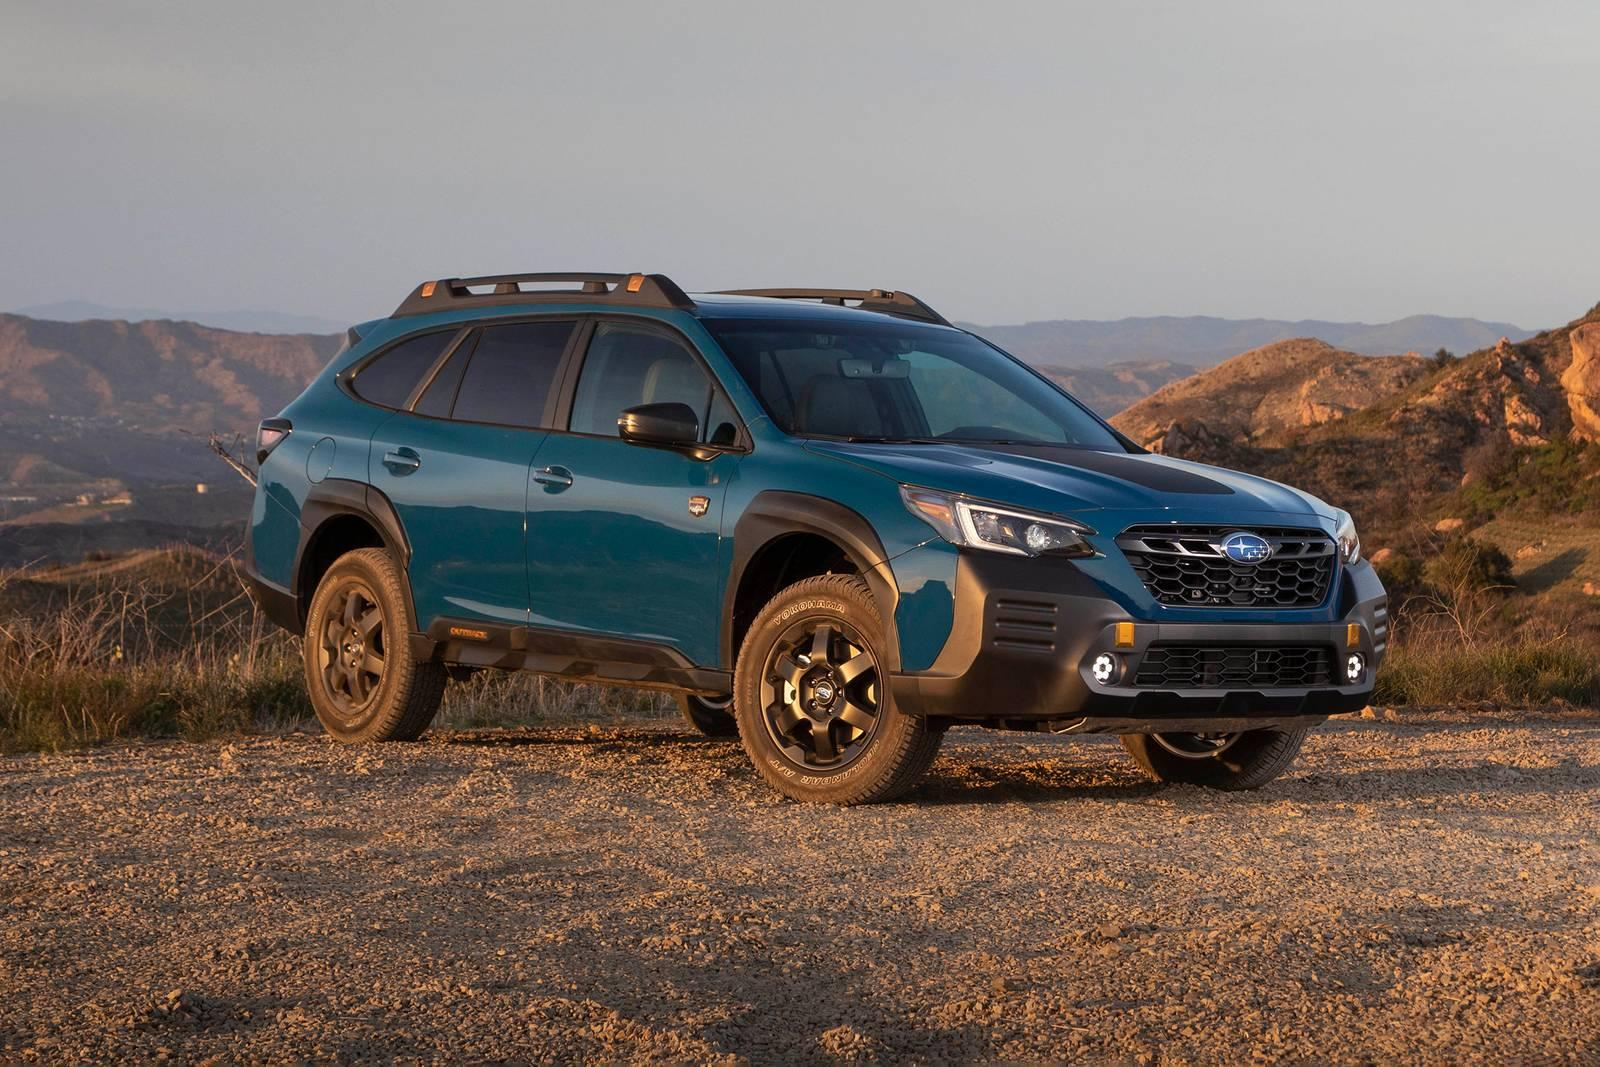subaru: (1212, 524, 1289, 574)
